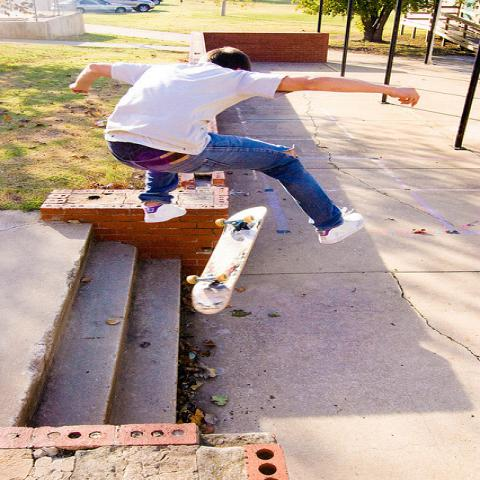car: (50, 0, 134, 14), (110, 1, 154, 12), (148, 0, 164, 8)
